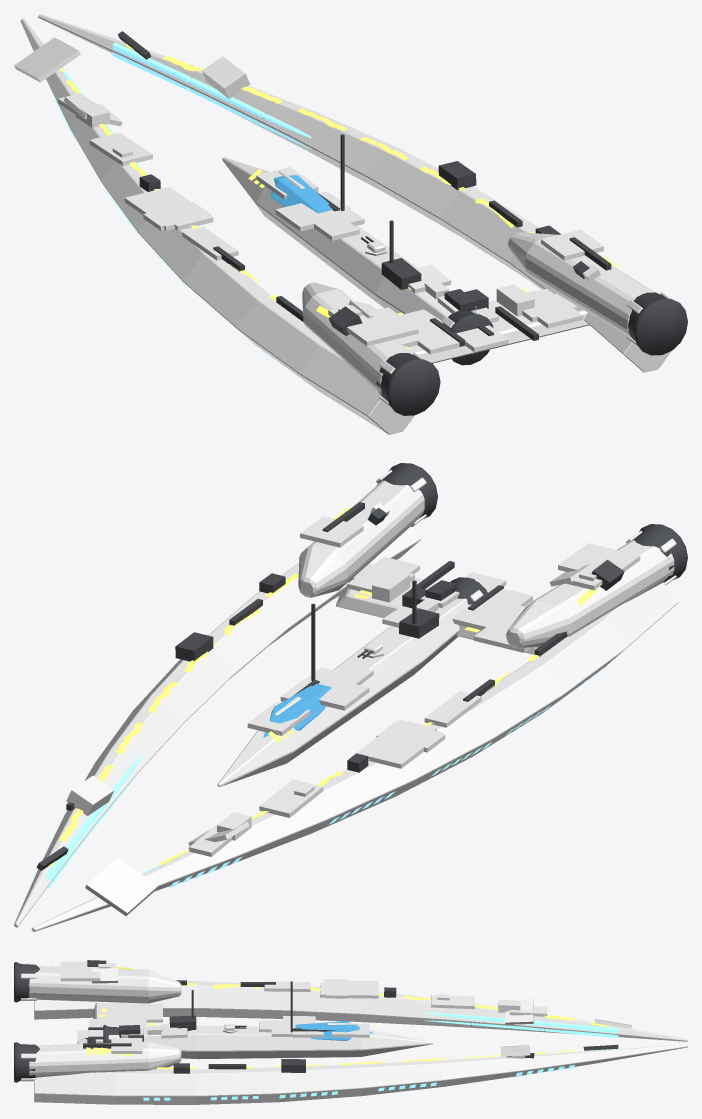
File: kometa.glb
The picture shows the model from 3 angles, top to bottom: view 1: azimuth 30°, elevation 25°; view 2: azimuth 150°, elevation 25°; view 3: azimuth 270°, elevation 25°; orthographic projection. The views are drawn at different scales.
Parts seen in each view (by area): view 1: Накладные_плиты, Лезвие.001, Лезвие, Механика, Капсула, Гондола, Гондола.001, Кожух_дюзы.001, Кожух_дюзы, Разметка, Перемычка, Кабина (+3 smaller); view 2: Накладные_плиты, Лезвие.001, Лезвие, Капсула, Механика, Гондола.001, Гондола, Разметка, Перемычка, Кабина, Кожух_дюзы.001, Кожух_дюзы; view 3: Лезвие, Лезвие.001, Накладные_плиты, Капсула, Гондола.001, Гондола, Механика, Разметка, Кожух_дюзы, Кабина, Кромка.007, Решётки (+3 smaller).
Part boxes in pixels (bbox=[...]): Накладные_плиты: bbox=[14, 37, 603, 354]; Лезвие.001: bbox=[20, 18, 414, 434]; Лезвие: bbox=[38, 14, 671, 372]; Механика: bbox=[118, 31, 611, 346]; Капсула: bbox=[222, 157, 451, 320]; Гондола: bbox=[508, 232, 655, 338]; Гондола.001: bbox=[302, 282, 412, 394]; Кожух_дюзы.001: bbox=[376, 353, 440, 415]; Кожух_дюзы: bbox=[628, 292, 687, 355]; Разметка: bbox=[59, 44, 620, 350]; Перемычка: bbox=[408, 291, 589, 363]; Кабина: bbox=[271, 175, 332, 213]; Накладные_плиты: bbox=[66, 502, 640, 916]; Лезвие.001: bbox=[31, 582, 678, 931]; Лезвие: bbox=[14, 526, 420, 927]; Капсула: bbox=[217, 598, 468, 786]; Механика: bbox=[36, 502, 624, 870]; Гондола.001: bbox=[506, 540, 674, 648]; Гондола: bbox=[298, 480, 424, 597]; Разметка: bbox=[49, 507, 598, 866]; Перемычка: bbox=[336, 577, 537, 654]; Кабина: bbox=[263, 683, 331, 737]; Кожух_дюзы.001: bbox=[633, 524, 687, 582]; Кожух_дюзы: bbox=[377, 463, 437, 518]; Лезвие: bbox=[34, 1044, 687, 1104]; Лезвие.001: bbox=[34, 981, 687, 1041]; Накладные_плиты: bbox=[60, 961, 631, 1058]; Капсула: bbox=[143, 1025, 432, 1059]; Гондола.001: bbox=[28, 966, 181, 1003]; Гондола: bbox=[28, 1041, 181, 1077]; Механика: bbox=[83, 960, 618, 1073]; Разметка: bbox=[86, 967, 608, 1069]; Кожух_дюзы: bbox=[14, 1042, 39, 1082]; Кабина: bbox=[295, 1021, 373, 1040]; Кромка.007: bbox=[544, 1021, 618, 1037]; Решётки: bbox=[143, 1065, 574, 1100].
Size of the model in its own units: 0.7711 by 0.2771 by 2.06.
